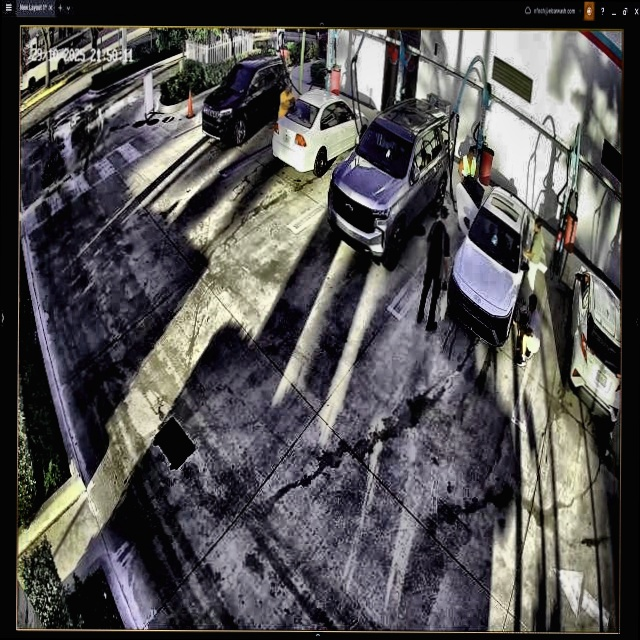Car: (327, 97, 453, 262), (453, 174, 535, 349), (273, 86, 368, 175)
